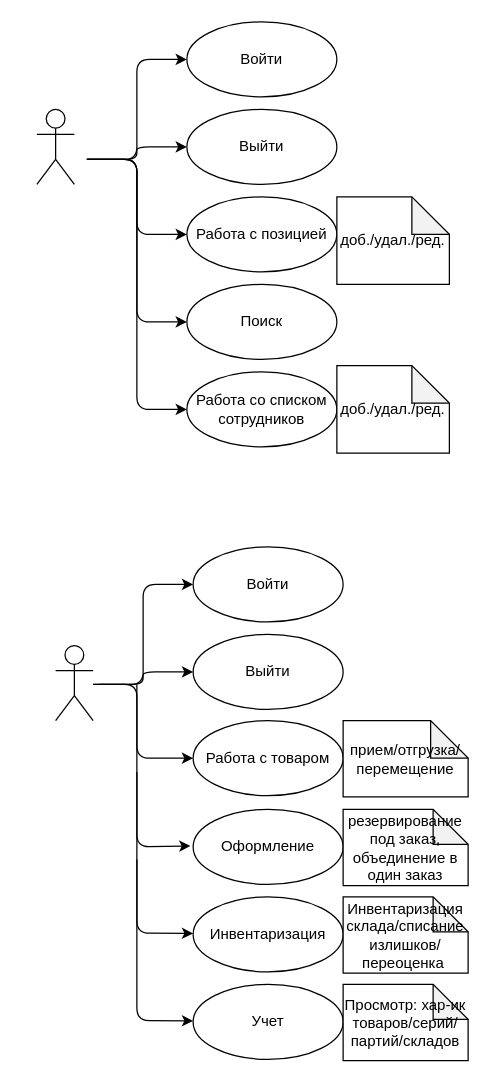
The diagram is 490 pixels wide and 1083 high, and some of its shapes have lost their labels. The shapes that lost their labels are listed below. From the top down, each one's box as (x1, y1, x2, y2) in pixels, then its label:
(36, 108, 74, 184): Admin DB
(54, 644, 93, 721): User
